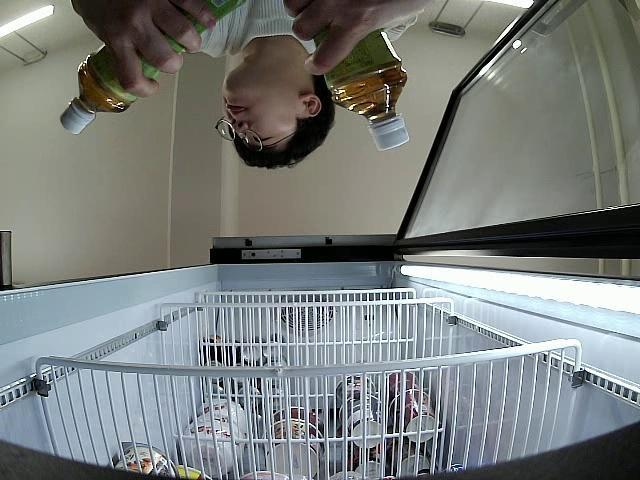19_17cha: (59, 0, 248, 133), (291, 0, 408, 154)
